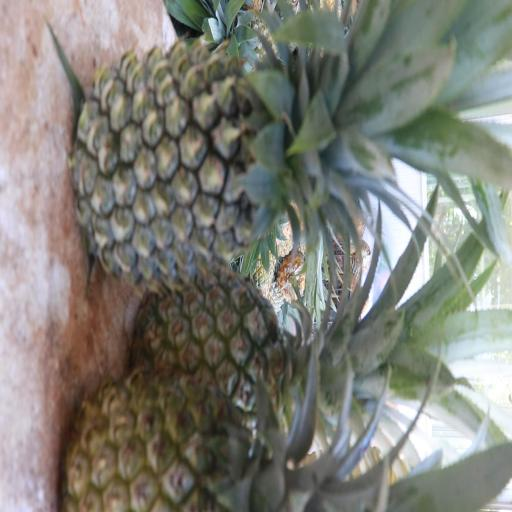------------------------------: (54, 358, 399, 512), (126, 250, 364, 430)
